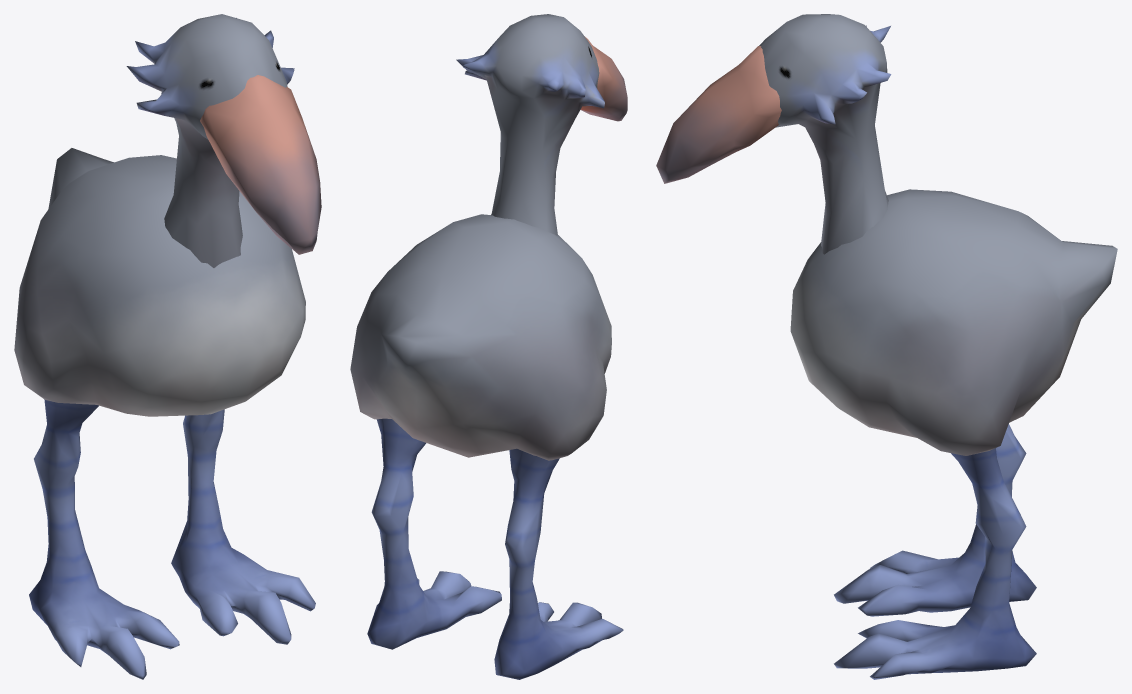
3 renders of one model, left to right at view 1: azimuth 30°, elevation 25°; view 2: azimuth 150°, elevation 25°; view 3: azimuth 270°, elevation 25°, orthographic. The views are drawn at different scales.
Visible parts, largest first — view 1: Sphere, Sphere.001, Cylinder, Sphere.003; view 2: Sphere, Sphere.001, Cylinder, Sphere.003; view 3: Sphere, Sphere.001, Cylinder, Sphere.003.
Boxes of the visible parts, <box> form: Sphere: <box>14,148,305,416</box>; Sphere.001: <box>29,399,315,679</box>; Cylinder: <box>126,14,294,267</box>; Sphere.003: <box>200,75,321,254</box>; Sphere: <box>350,214,611,460</box>; Sphere.001: <box>367,418,623,679</box>; Cylinder: <box>456,14,604,235</box>; Sphere.003: <box>580,36,627,121</box>; Sphere: <box>790,189,1117,455</box>; Sphere.001: <box>834,424,1036,679</box>; Cylinder: <box>759,14,891,254</box>; Sphere.003: <box>656,46,781,183</box>.
Size of the model in its own units: 1.49 by 3.51 by 2.38.
1 material, 1 textured.
